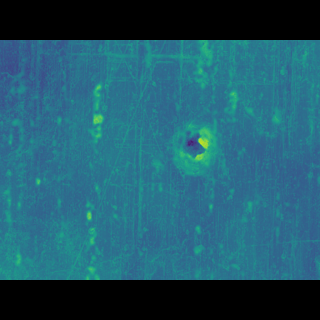Loch: (173, 135, 217, 165)
